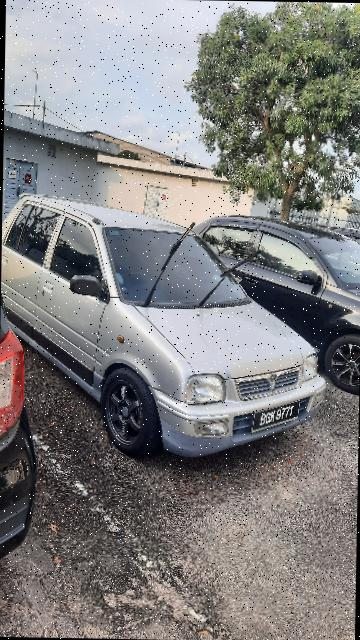License_Plate: (252, 398, 300, 435)
car: (1, 182, 335, 468), (178, 211, 360, 403)
